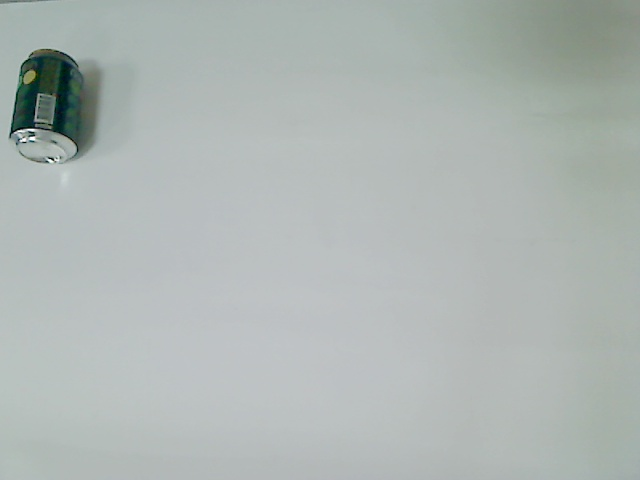can: (7, 47, 86, 167)
